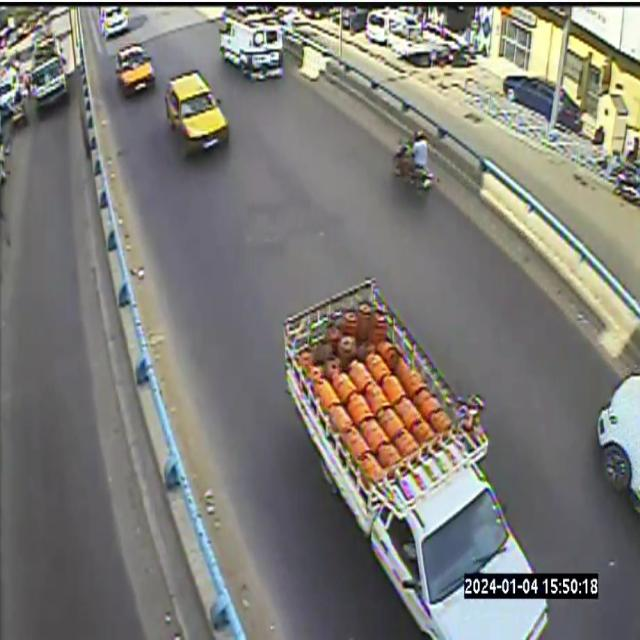car: (285, 280, 547, 639), (598, 374, 639, 511), (165, 71, 228, 154), (219, 11, 282, 79), (115, 43, 154, 94), (115, 45, 154, 94), (100, 6, 129, 39)
